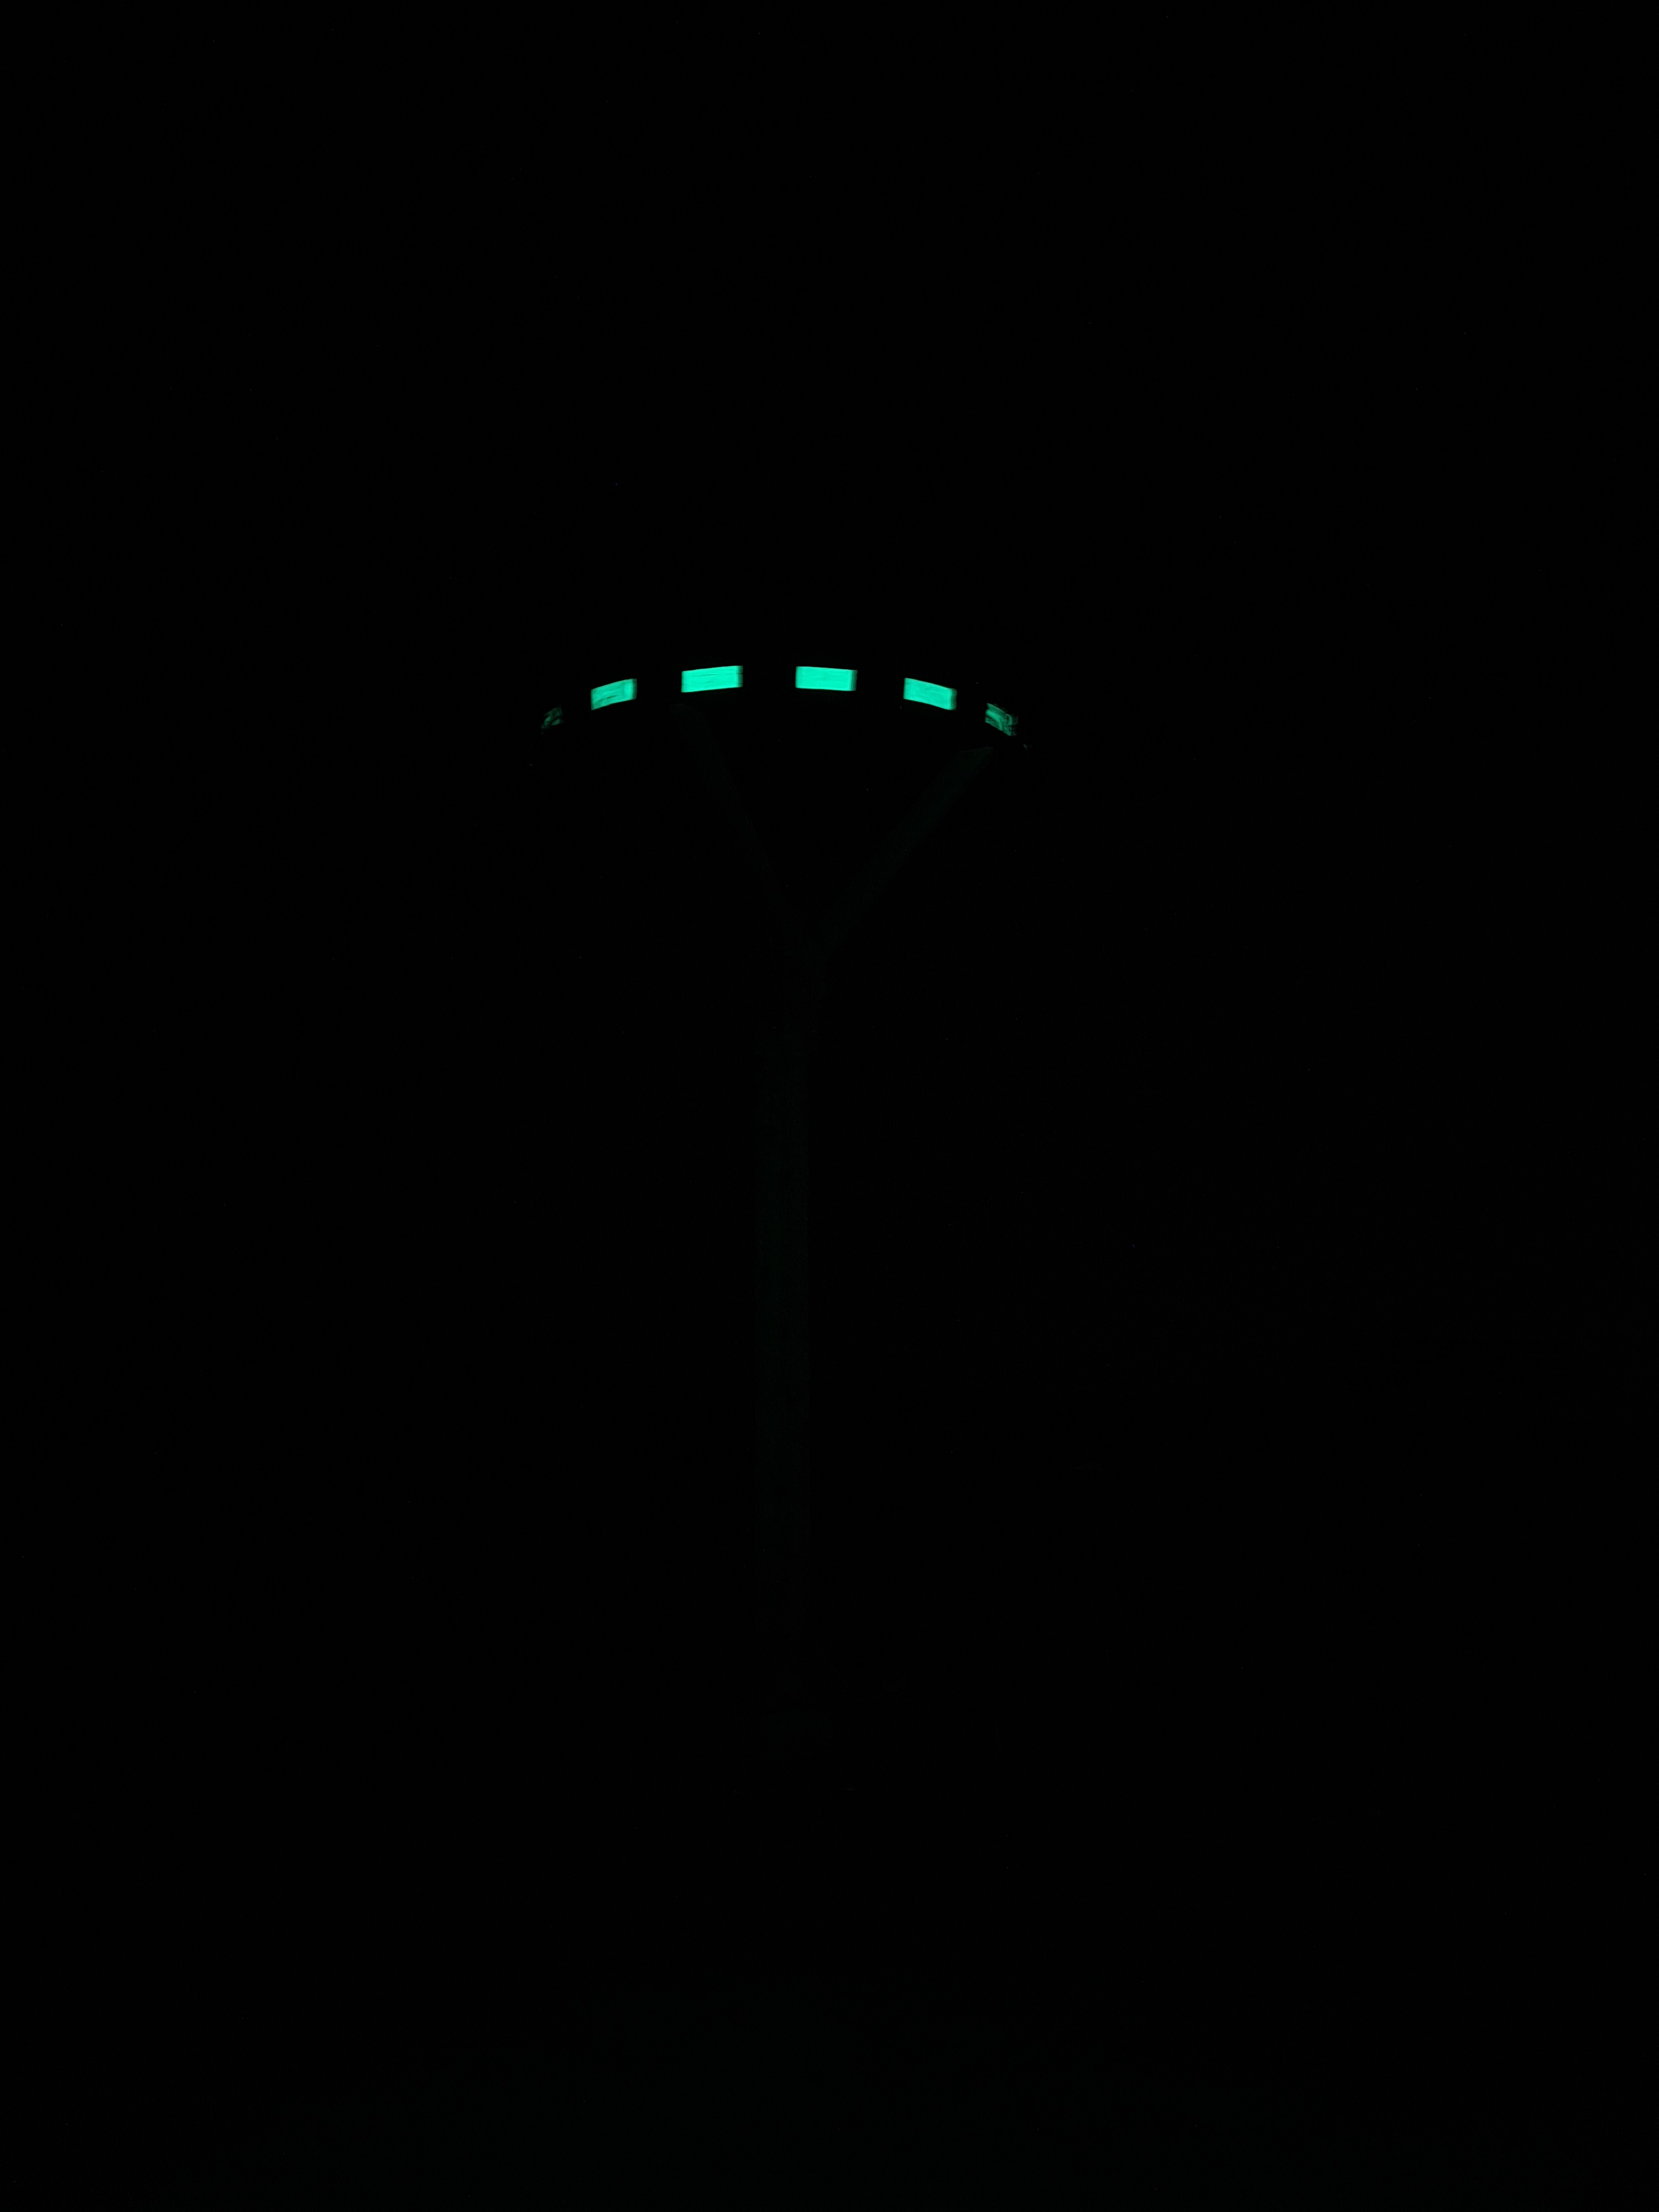hoop: (521, 639, 1040, 772)
